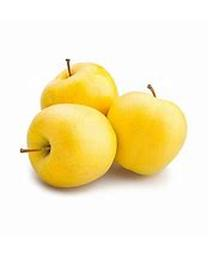apple: (20, 104, 118, 188), (106, 84, 188, 176), (39, 58, 117, 114)
